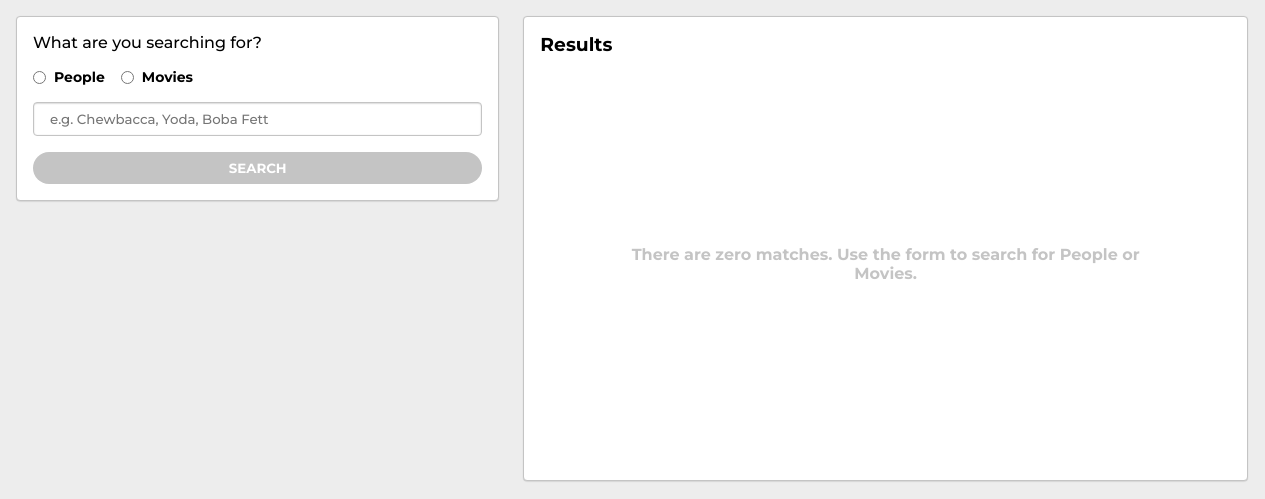
HomePage › Search functionality › should enable search button when input has value
Expected: the button "Search" is disabled, top-left (33, 152), bottom-right (482, 184)
Type "Luke" into the field with placeholder "e.g. Chewbacca, Yoda, Boba Fett". click: (258, 119)
box: top-left (33, 102), bottom-right (482, 136)
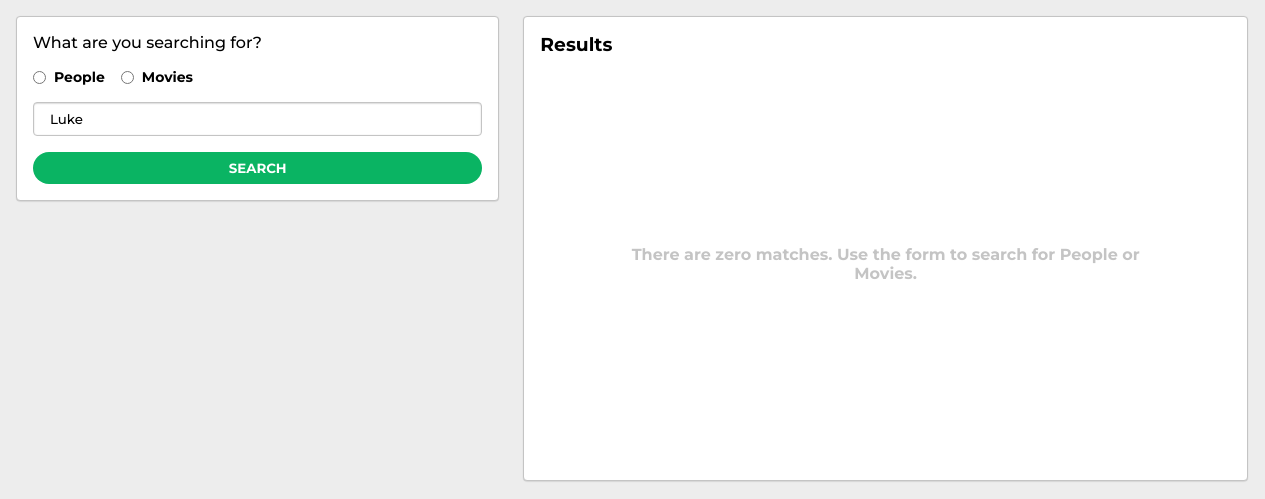
Expected: the button "Search" is enabled, top-left (33, 152), bottom-right (482, 184)
